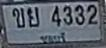2: (87, 4, 97, 24)
3: (62, 5, 73, 26), (74, 4, 85, 25)
4: (51, 6, 60, 26)
A02: (12, 7, 26, 29)
A34: (26, 6, 40, 29)
